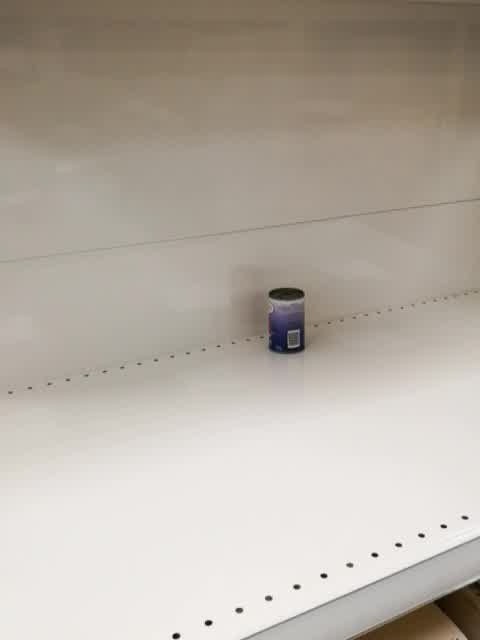sardine: (266, 286, 307, 356)
